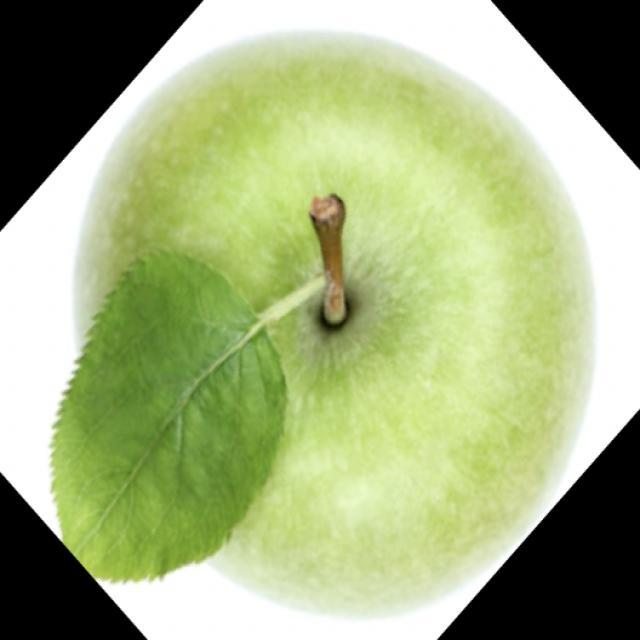Fresh Apple: (78, 34, 595, 604)
